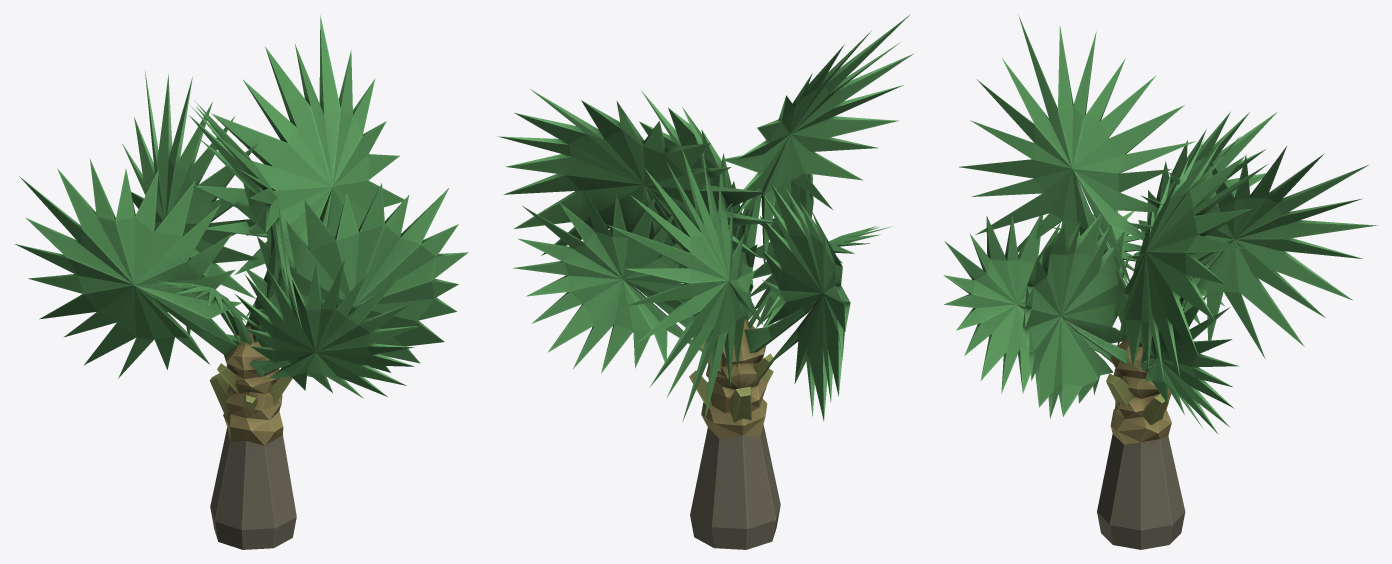
File: bismarck-palm.glb
3 renders of one model, left to right at view 1: azimuth 30°, elevation 25°; view 2: azimuth 150°, elevation 25°; view 3: azimuth 270°, elevation 25°, orthographic. The views are drawn at different scales.
Visible parts, largest first — view 1: BismarckPalmTree_mesh; view 2: BismarckPalmTree_mesh; view 3: BismarckPalmTree_mesh.
Part boxes in pixels (x1,y1,x2,y2): BismarckPalmTree_mesh: [15, 15, 468, 549]; BismarckPalmTree_mesh: [497, 14, 913, 549]; BismarckPalmTree_mesh: [943, 15, 1377, 549].
Size of the model in its own units: 7.7 by 9.79 by 8.24.
1 material, 1 textured.
